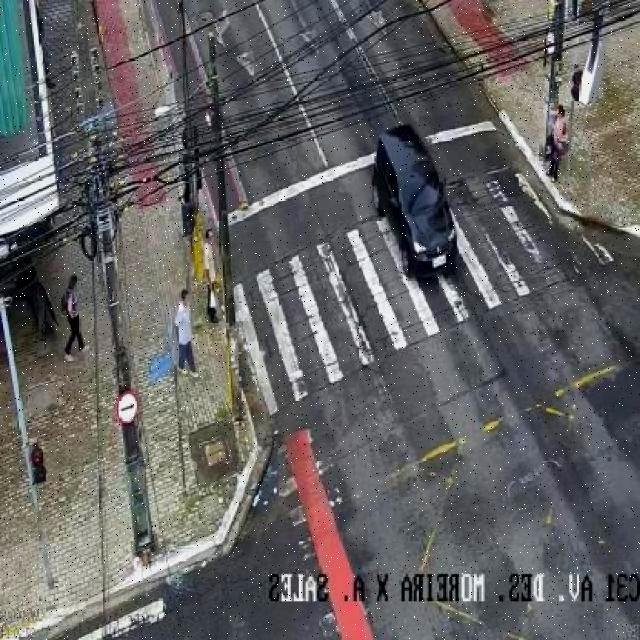Car: (372, 124, 460, 278)
